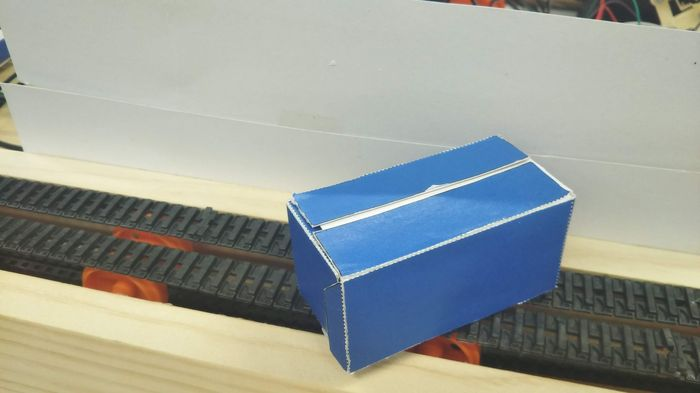box3: (286, 133, 575, 372)
